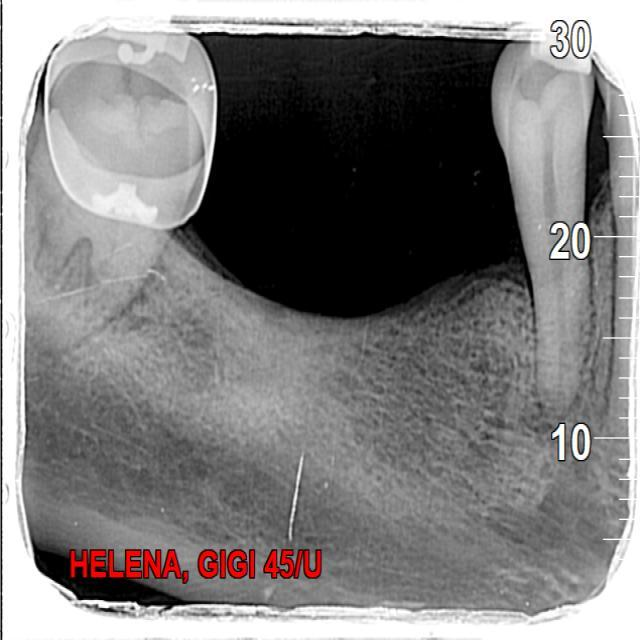individual-tooth-8tto: (12, 20, 220, 356), (492, 28, 604, 409)
